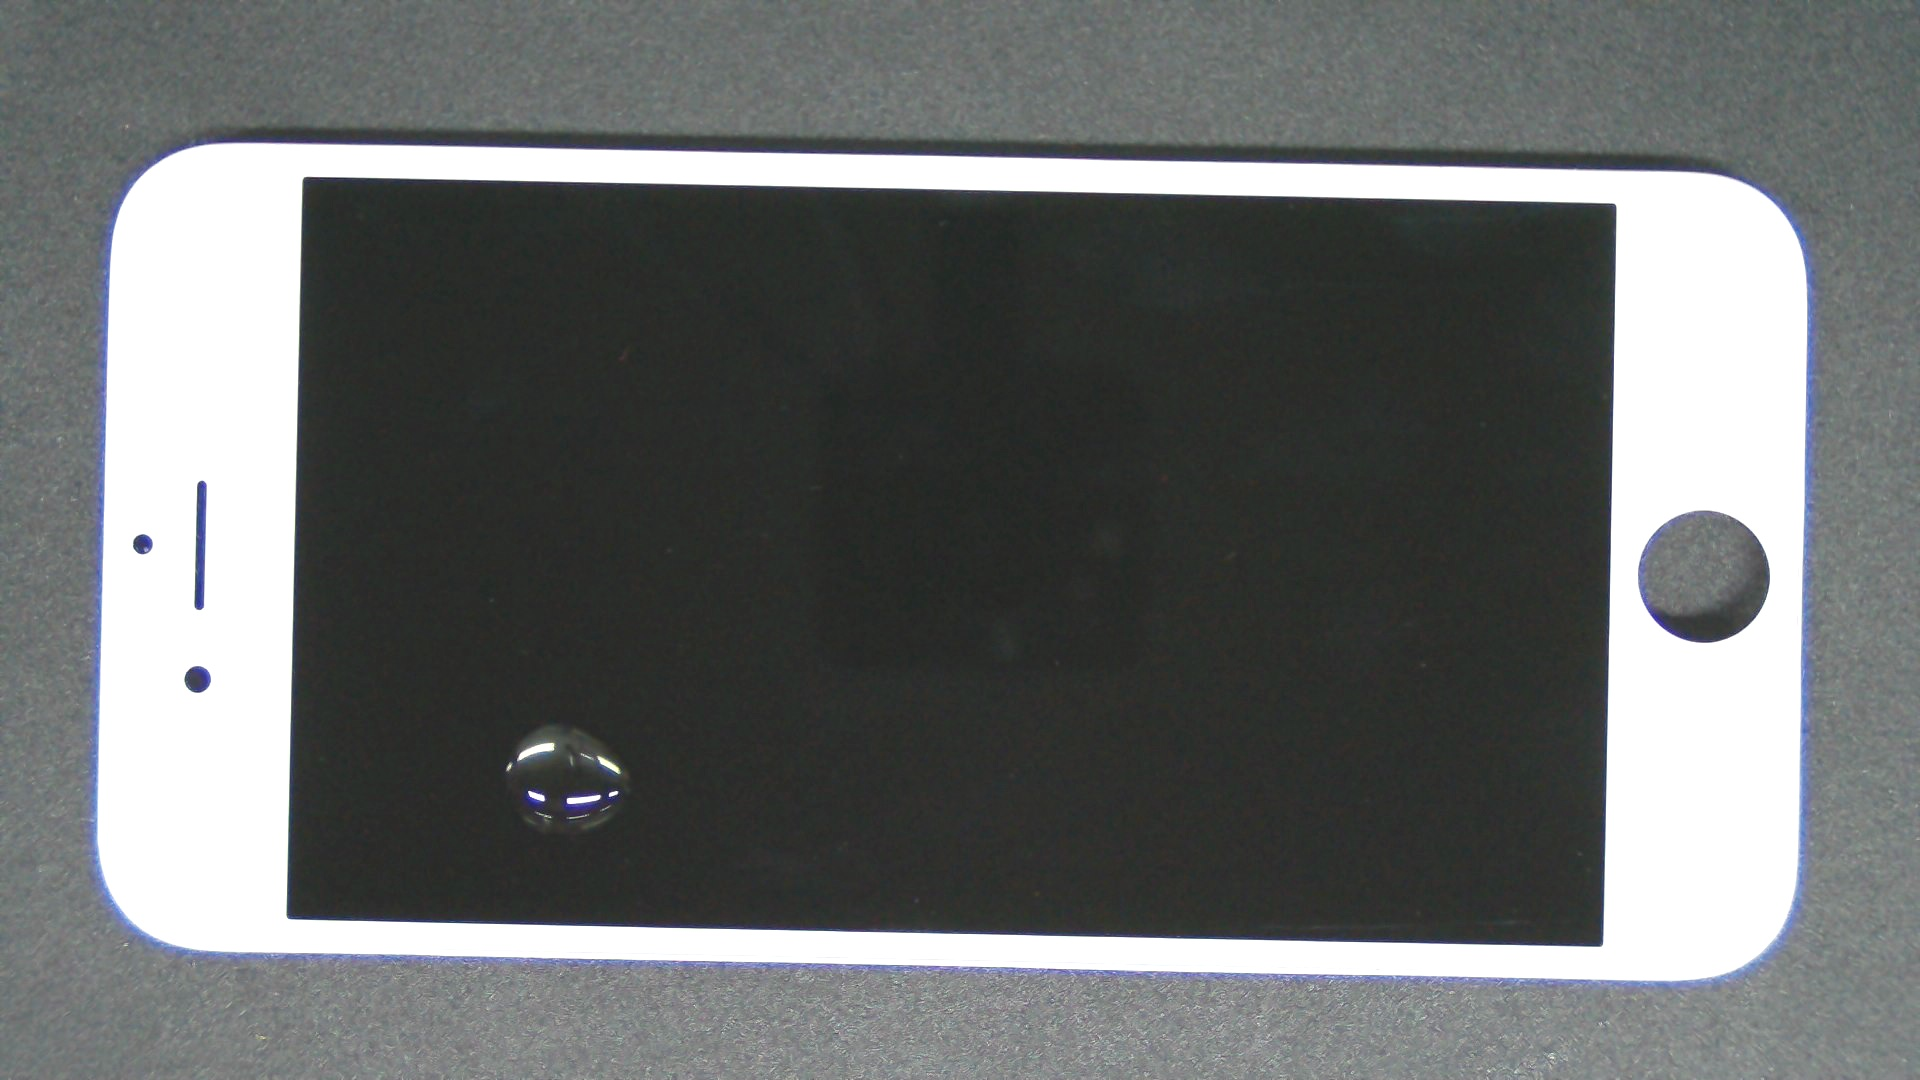oil: (278, 361, 833, 1080)
